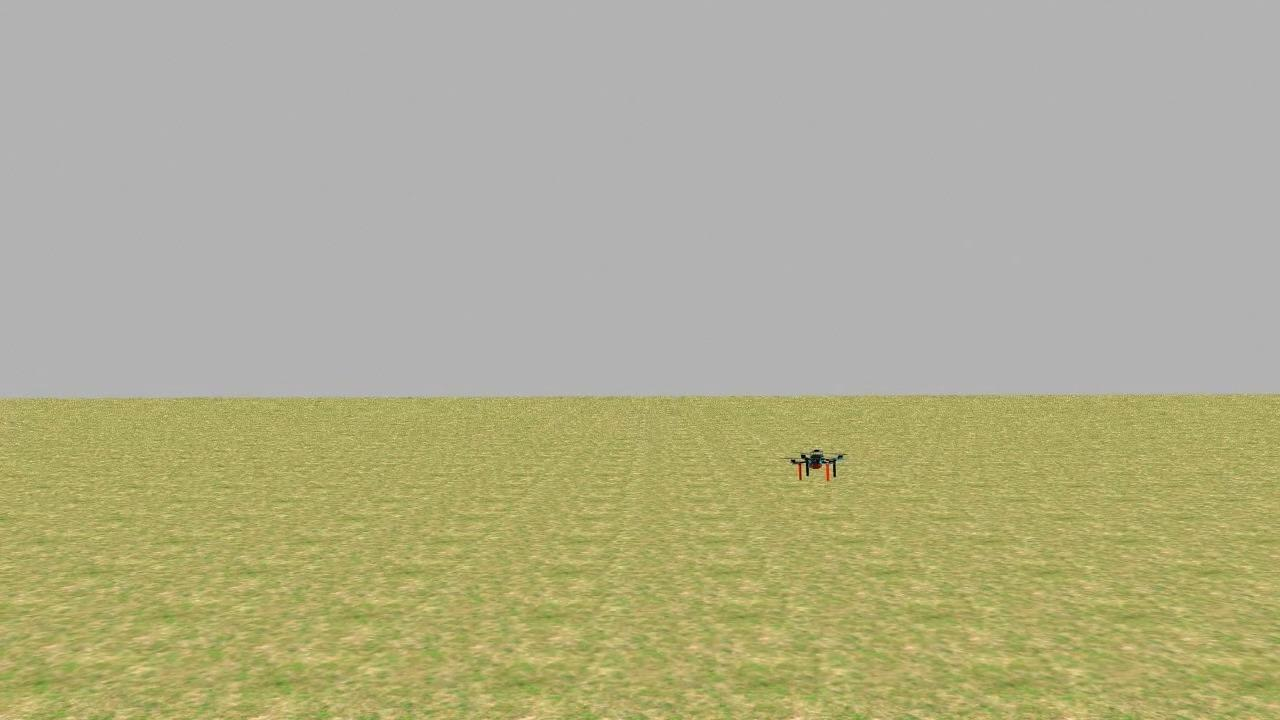UAV: (763, 429, 871, 503)
